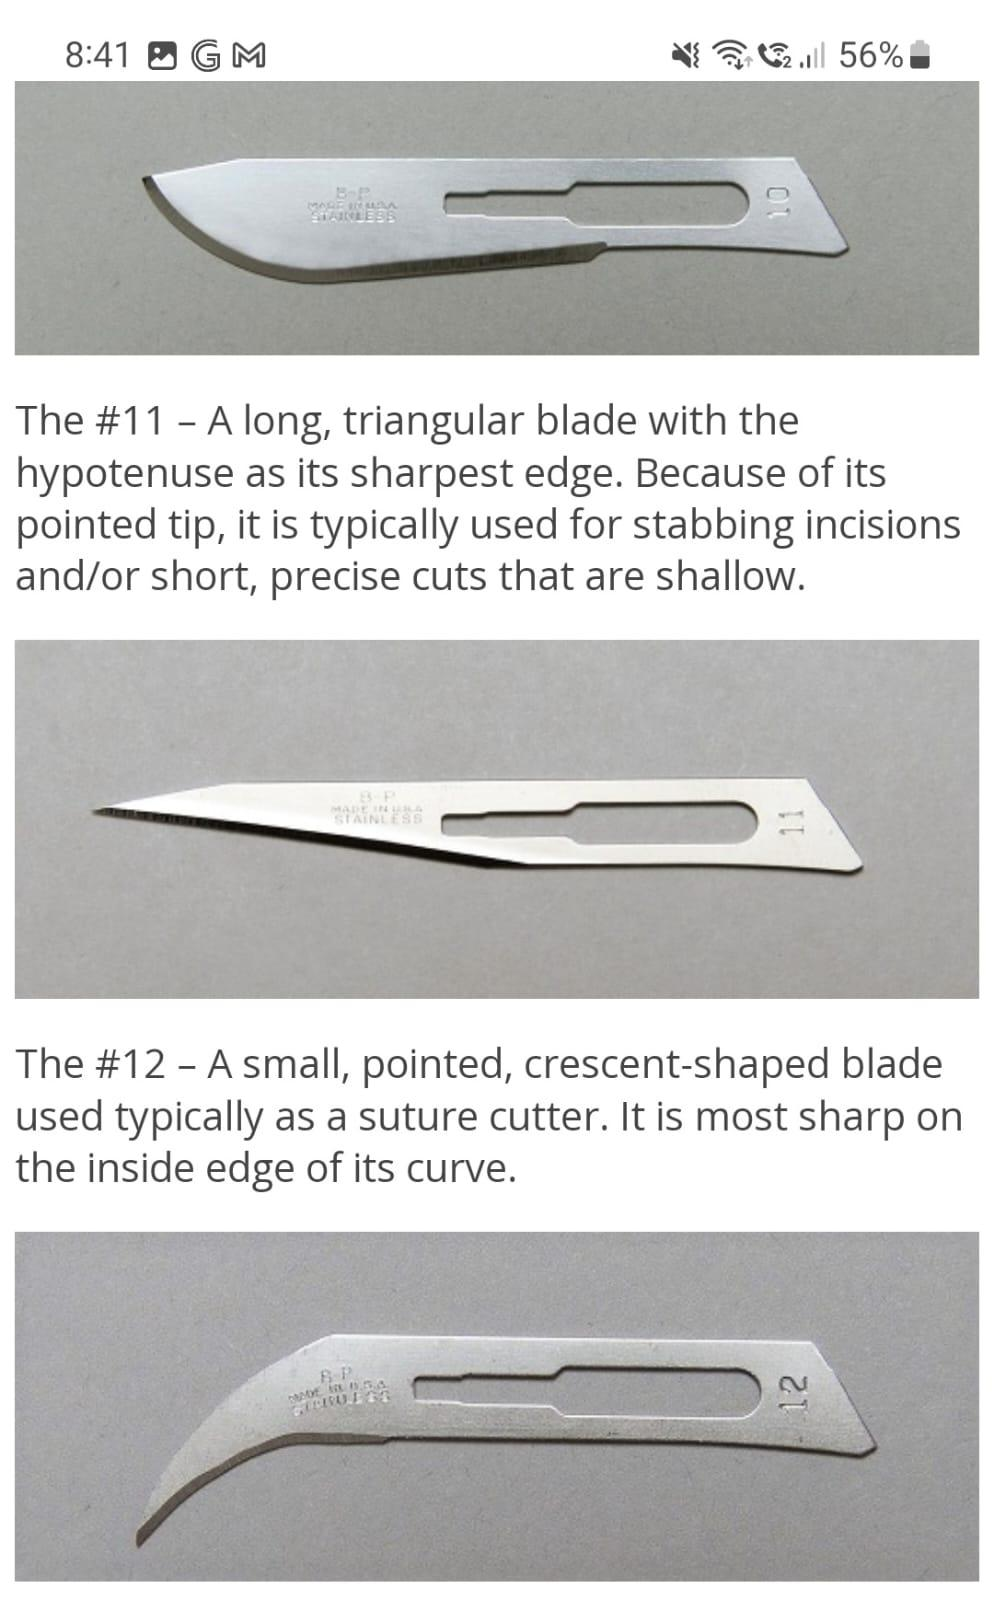Surgical blade: (97, 1305, 892, 1550), (65, 702, 879, 903), (127, 120, 873, 307)
